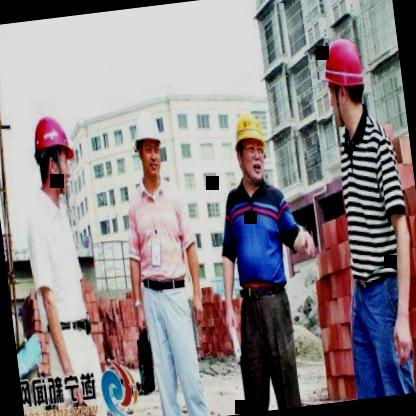helmet: (312, 22, 382, 144), (25, 106, 83, 202), (224, 101, 275, 196), (128, 107, 170, 184)
